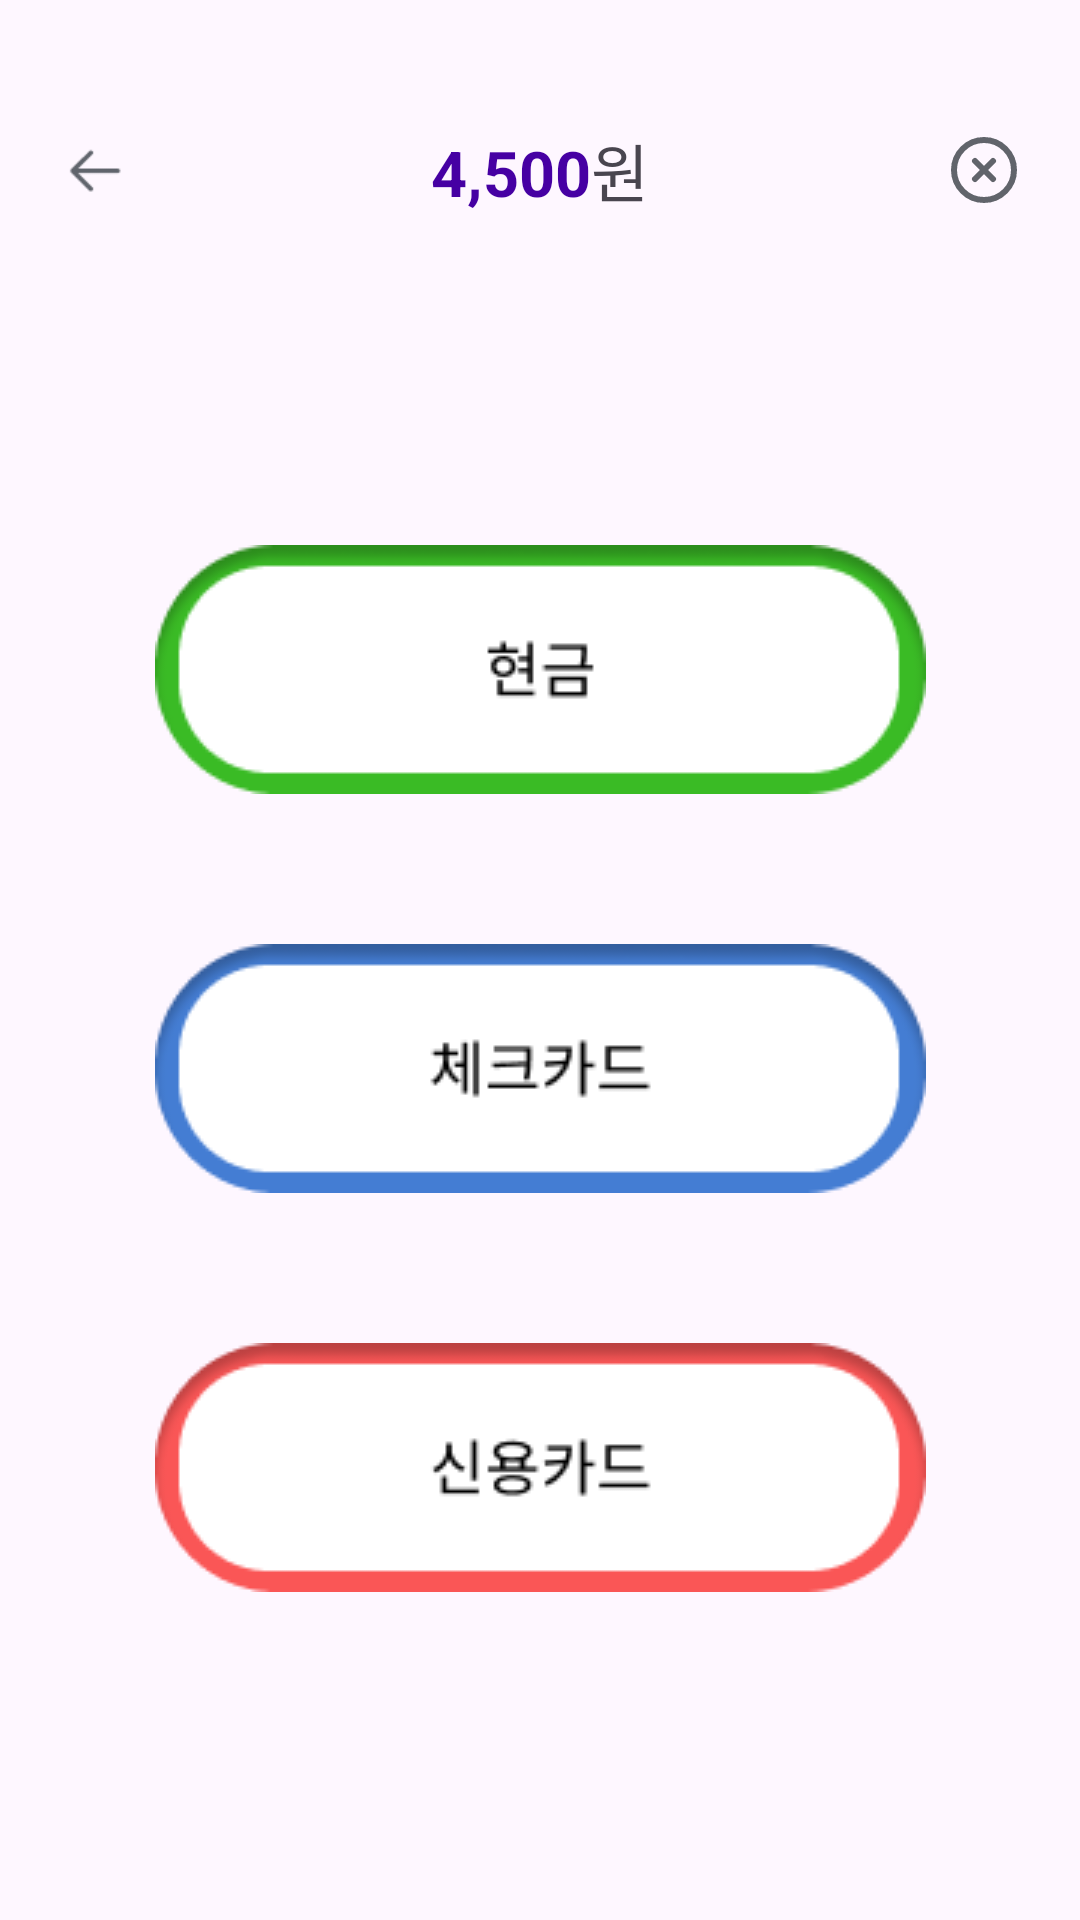

Icons on this 1080 × 1920 Android screen, each with the point to tap as point (x, y):
goback: point (95, 171)
incomeclose: point (984, 170)
